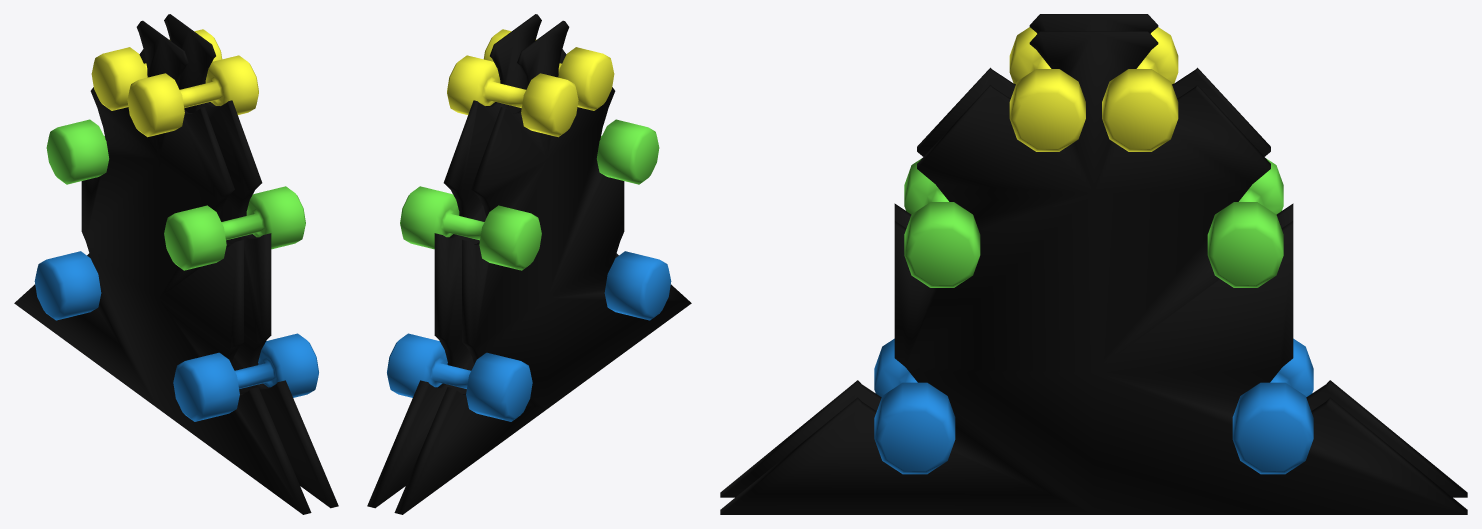
The model's file is ColorfulDumbbellSet.fbx.
3 renders of one model, left to right at view 1: azimuth 30°, elevation 25°; view 2: azimuth 150°, elevation 25°; view 3: azimuth 270°, elevation 25°, orthographic. The views are drawn at different scales.
Parts seen in each view (by area): view 1: ColorfulDumbbellSet1; view 2: ColorfulDumbbellSet1; view 3: ColorfulDumbbellSet1.
Boxes of the visible parts, box(x1,y1,x2,y2) form: ColorfulDumbbellSet1: box(14, 14, 338, 514); ColorfulDumbbellSet1: box(367, 14, 691, 514); ColorfulDumbbellSet1: box(720, 14, 1467, 514).
Size of the model in its own units: 20.81 by 61.88 by 87.22.
